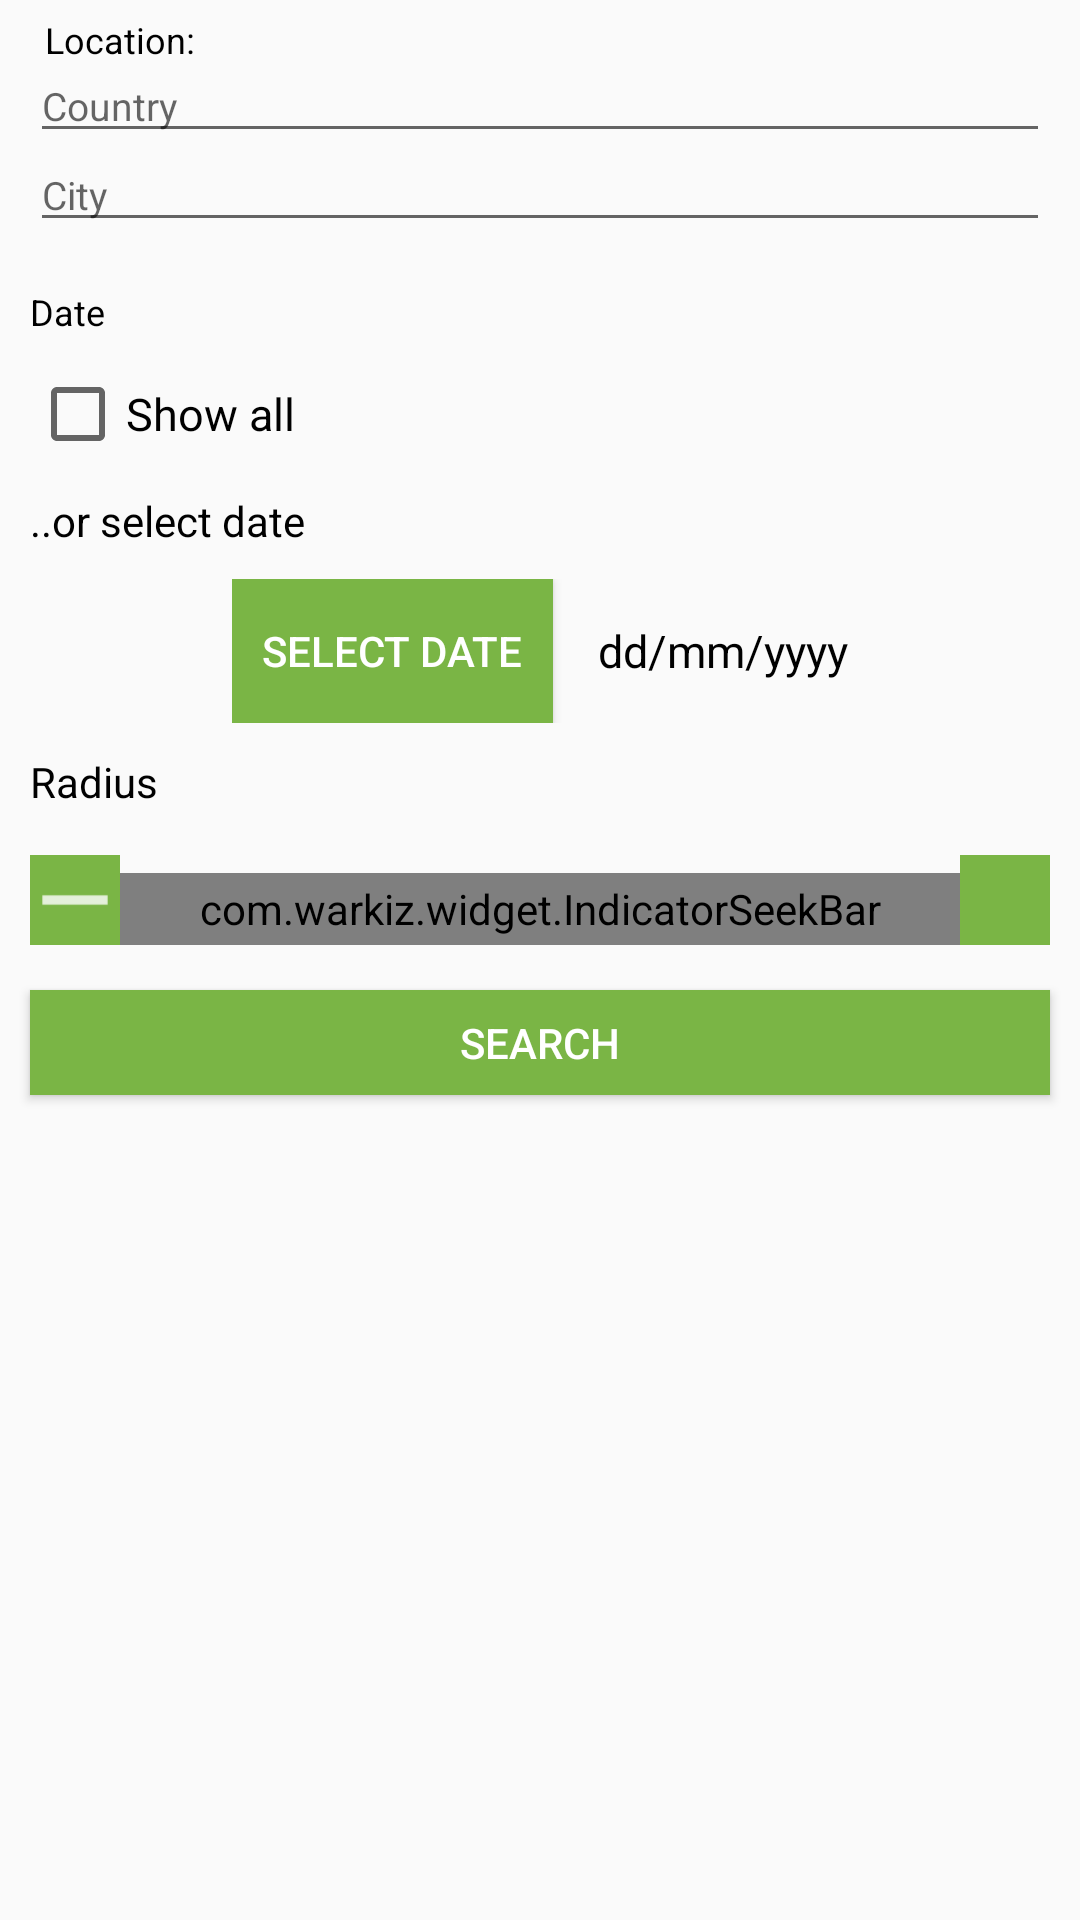

Where to tap for icons on this 1080w x 1920h app screen, as point (x, y):
subtract: point (75, 900)
